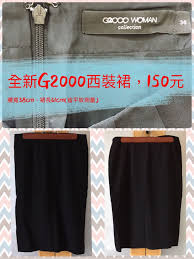F_tailored skirt: (9, 127, 94, 256), (102, 133, 191, 253)
